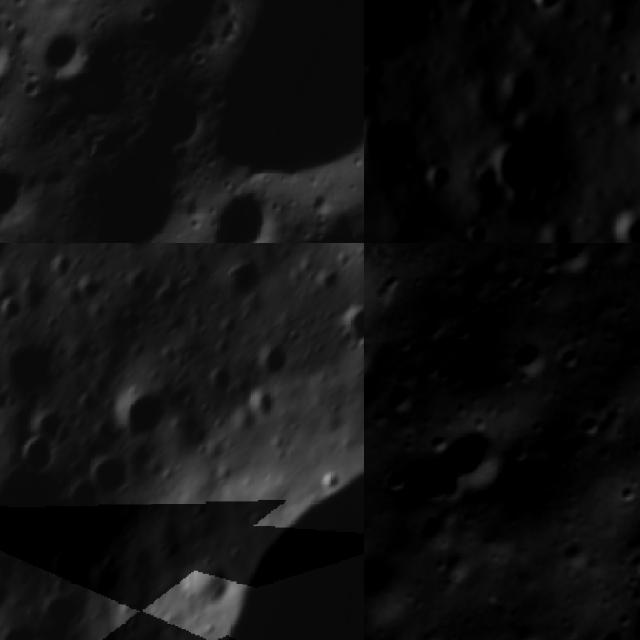crater: (76, 350, 364, 640), (166, 23, 364, 215), (98, 59, 230, 182), (430, 404, 528, 500), (189, 170, 298, 243), (121, 0, 221, 73), (27, 11, 109, 91), (0, 324, 62, 415), (482, 132, 551, 205), (409, 457, 480, 524), (112, 378, 178, 443), (0, 144, 49, 230), (0, 0, 39, 103), (284, 193, 364, 243), (502, 328, 559, 386), (217, 244, 276, 294), (58, 481, 111, 536), (88, 447, 138, 504), (0, 0, 69, 39), (499, 67, 548, 113), (553, 532, 600, 578), (543, 243, 597, 281), (381, 377, 425, 421), (553, 336, 596, 379), (22, 437, 64, 481), (419, 158, 460, 201), (374, 456, 415, 499), (364, 117, 401, 163), (570, 404, 611, 445), (330, 304, 364, 353), (364, 324, 389, 389), (0, 96, 22, 165), (605, 201, 640, 243), (413, 348, 451, 386), (596, 243, 640, 274), (608, 472, 640, 511), (589, 617, 638, 640), (0, 296, 31, 330), (110, 243, 176, 258), (535, 221, 574, 243), (622, 540, 640, 586), (529, 0, 575, 17), (464, 221, 493, 243)
